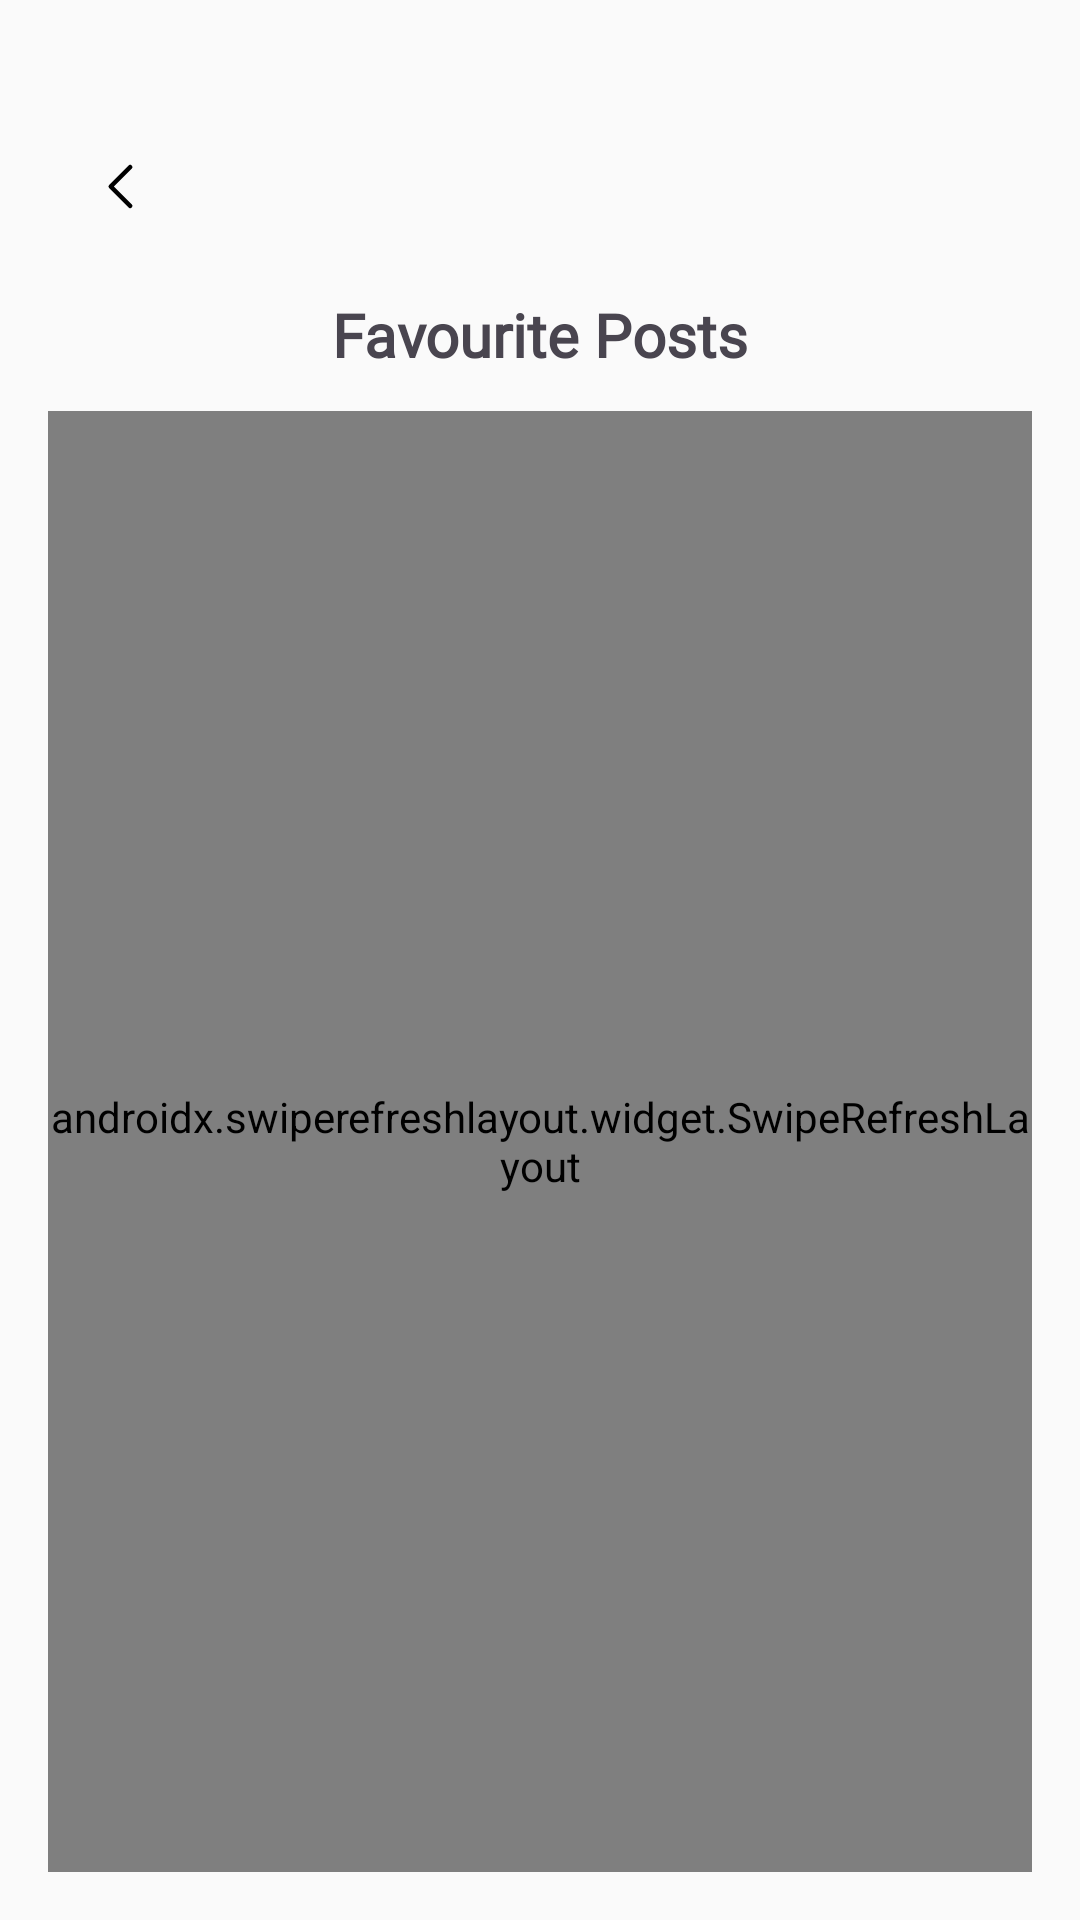

Point at icon controls on the screen. Image size 1080w x 1920h, points as (x=x, y=y).
Back: (x=120, y=186)
